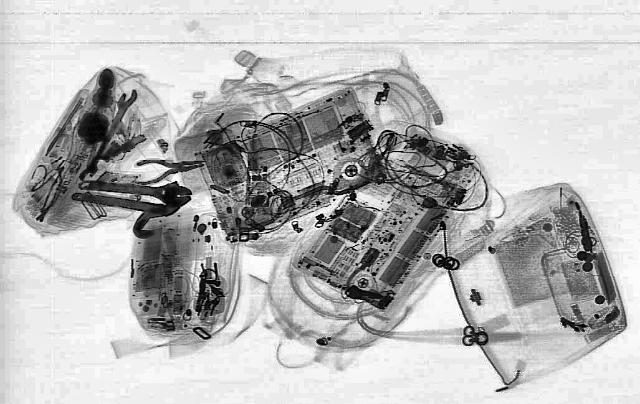Pliers: (125, 152, 212, 184)
Wrench: (74, 86, 142, 182), (74, 170, 200, 210)
